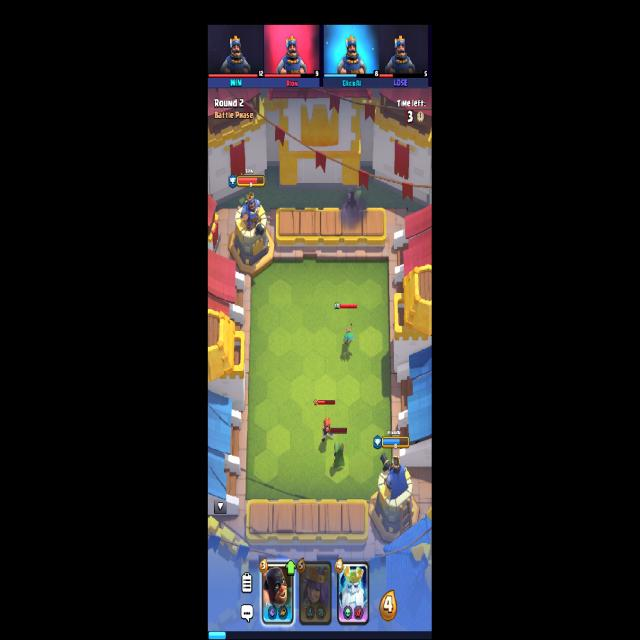bandit: (332, 442, 346, 472)
card_archer_queen: (298, 561, 333, 626)
card_executioner: (262, 562, 293, 624)
card_royal_ghost: (337, 562, 370, 624)
dart_goblin: (342, 323, 354, 348)
valkyrie: (322, 418, 334, 446)
